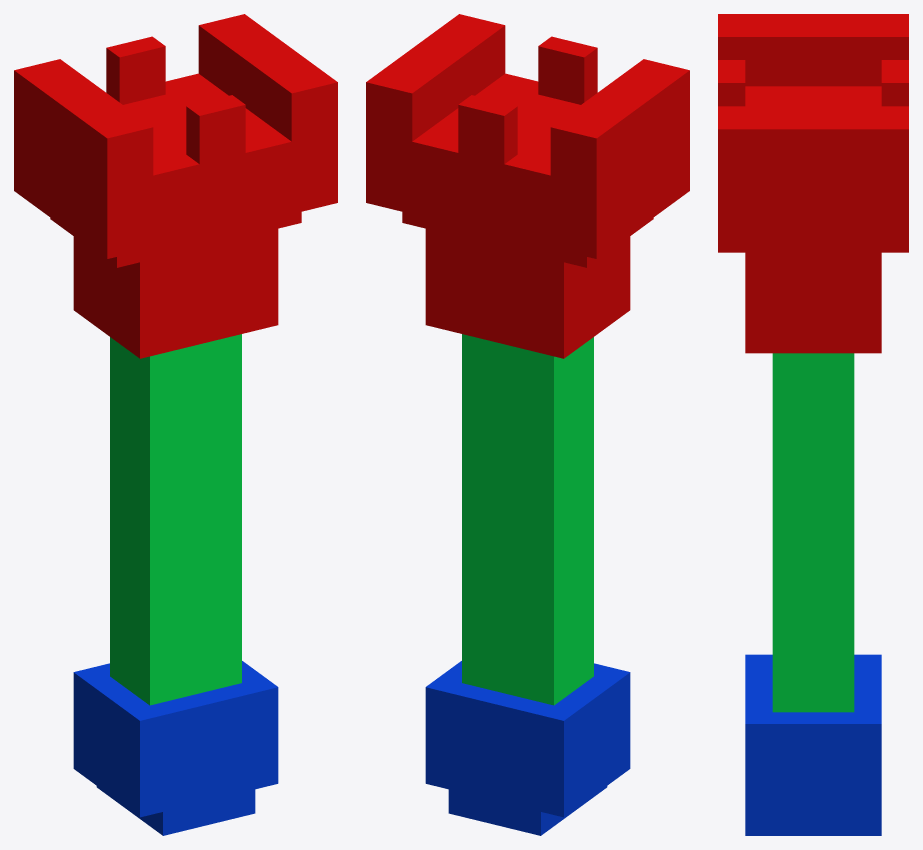
Rendered from torch.gltf.
3 renders of one model, left to right at view 1: azimuth 30°, elevation 25°; view 2: azimuth 150°, elevation 25°; view 3: azimuth 270°, elevation 25°, orthographic. The views are drawn at different scales.
Visible parts, largest first — view 1: palette; view 2: palette; view 3: palette.
Part boxes in pixels (left/top/right/bottom): palette: left=14, top=14, right=337, bottom=835; palette: left=366, top=14, right=689, bottom=835; palette: left=718, top=14, right=908, bottom=835.
Bounding box in the file's own units: 1 × 3 × 0.7.
